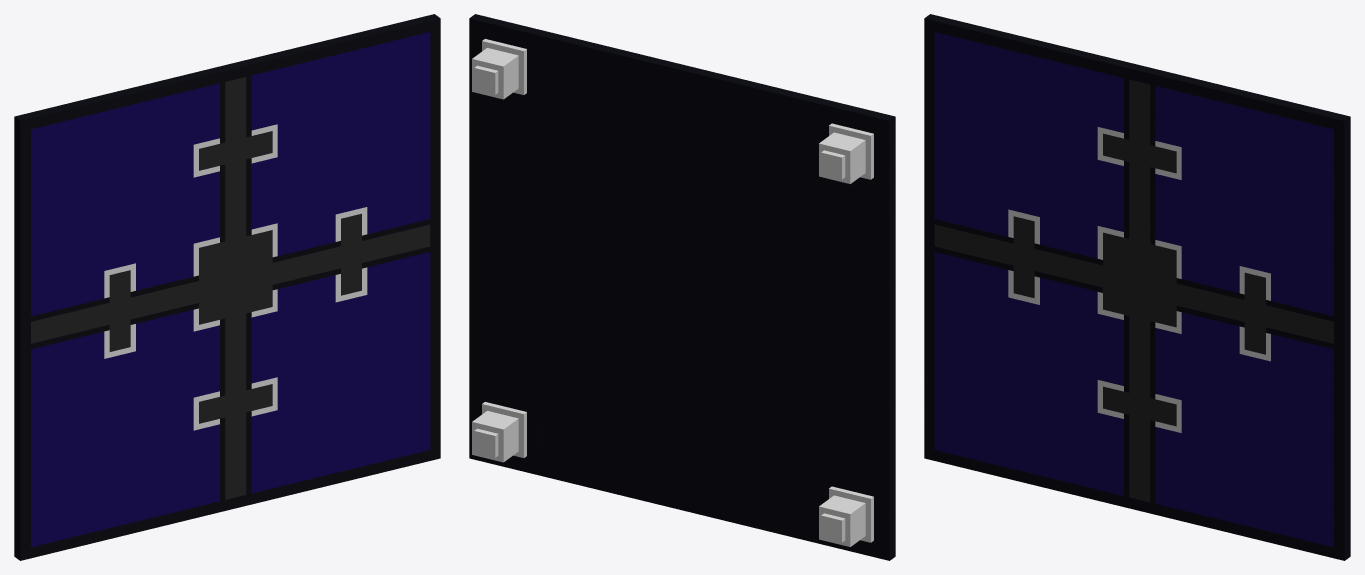
The model's file is space_platform.gltf.
The picture shows the model from 3 angles, left to right: view 1: azimuth 30°, elevation 25°; view 2: azimuth 150°, elevation 25°; view 3: azimuth 330°, elevation 25°; orthographic projection.
Parts seen in each view (by area): view 1: space_platform.002; view 2: space_platform.002; view 3: space_platform.002.
Boxes of the visible parts, <box> form: space_platform.002: <box>14,14,440,560</box>; space_platform.002: <box>469,14,895,560</box>; space_platform.002: <box>924,14,1350,560</box>.
Bounding box in the file's own units: 8 × 8 × 0.9.
1 material, 1 textured.
